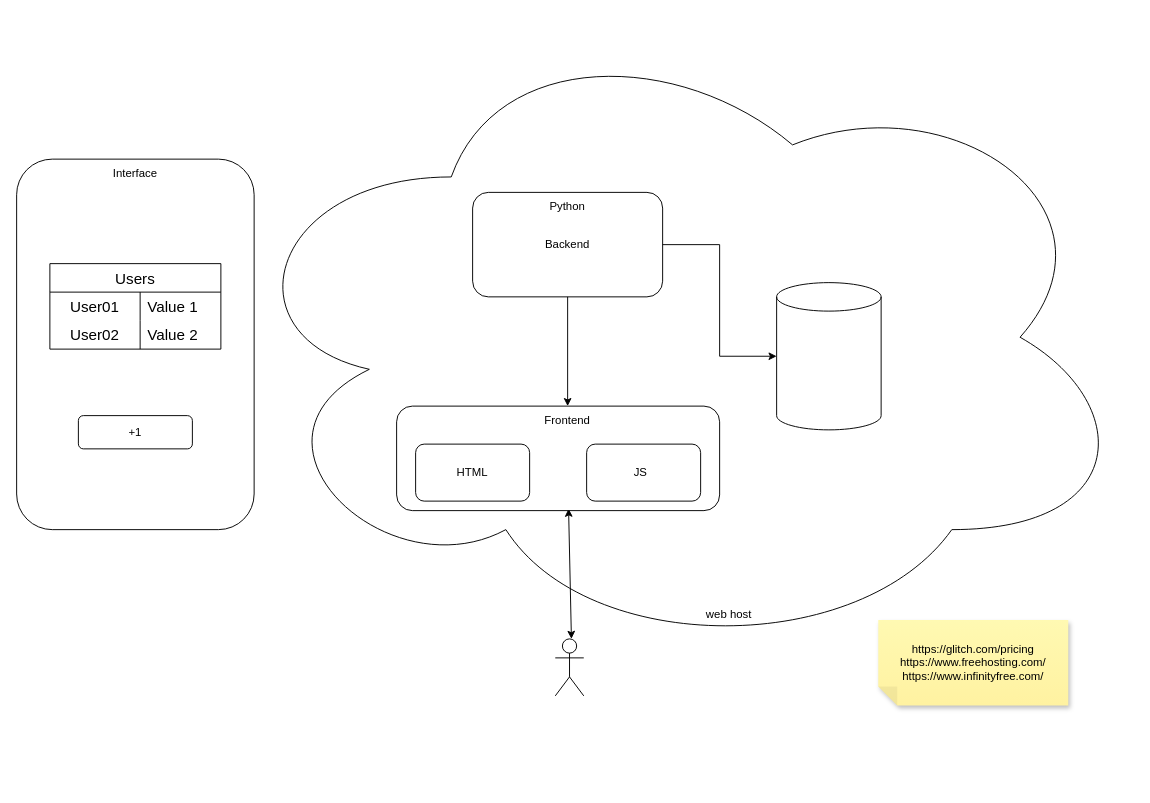
The diagram is 1150 pixels wide and 803 high, and some of its shapes have lost their labels. The centre of each missing label's shape, as x and y in pixels:
"SQLite DB" belongs at (x=828, y=356).
"Visitor" belongs at (x=569, y=667).
